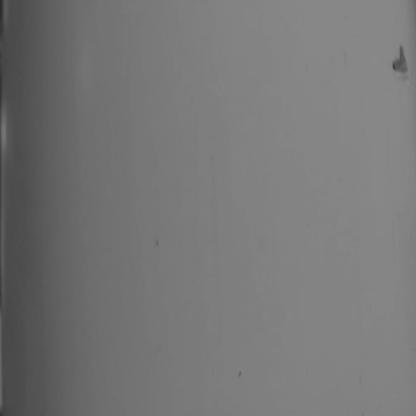kongdong: (389, 34, 415, 82)
